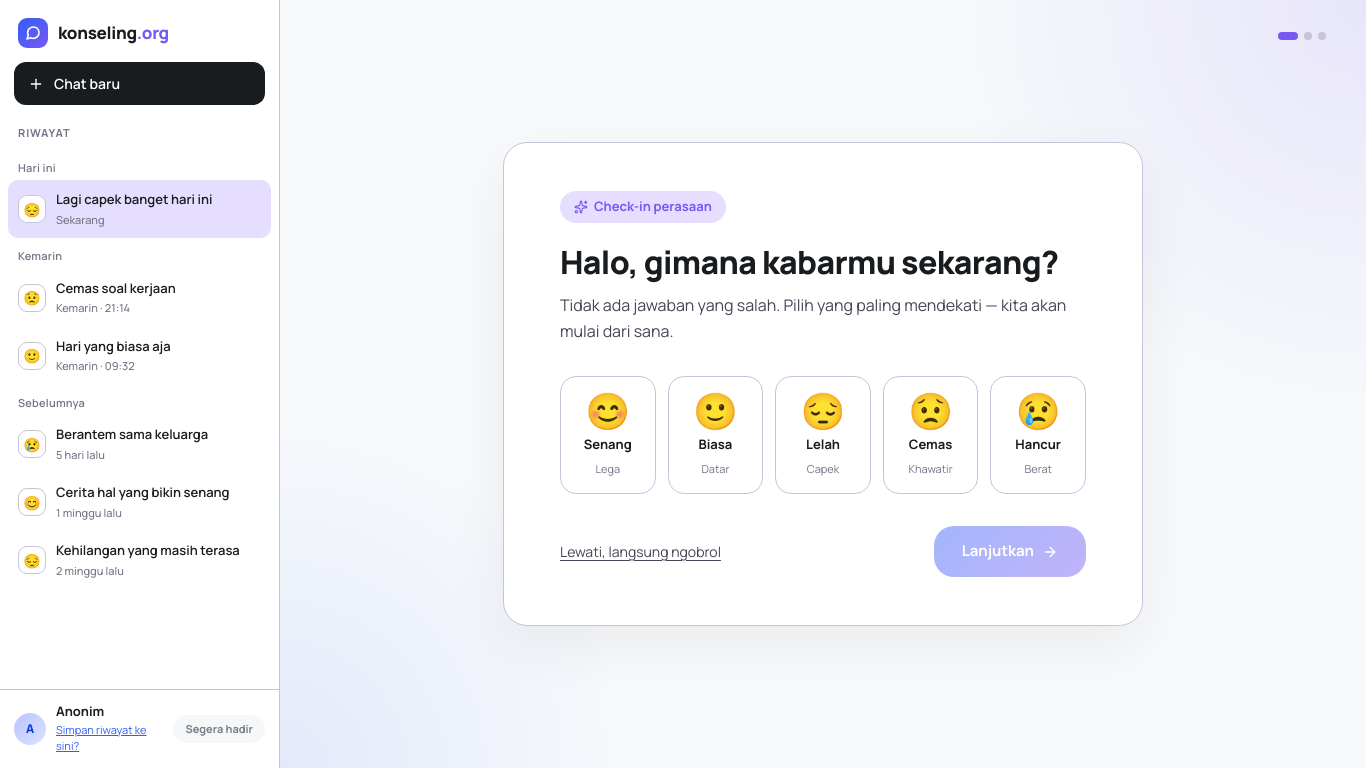
Test: ChatExperience › streams assistant text and disables the composer until done
Click the button with aria-label "Biasa — Datar".
click(715, 435)  # box [668,376,763,494]
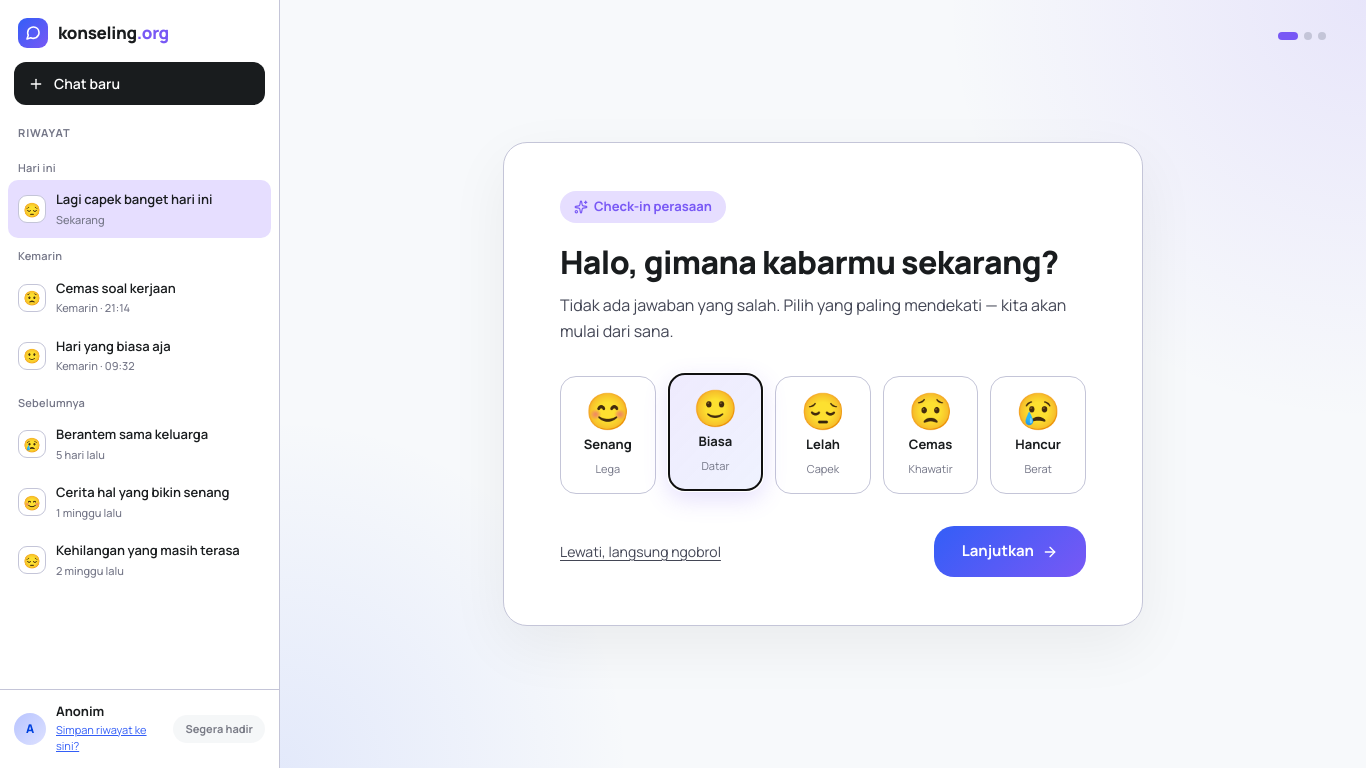
Click the button "Lanjutkan".
click(1010, 552)  # box [934,526,1086,577]
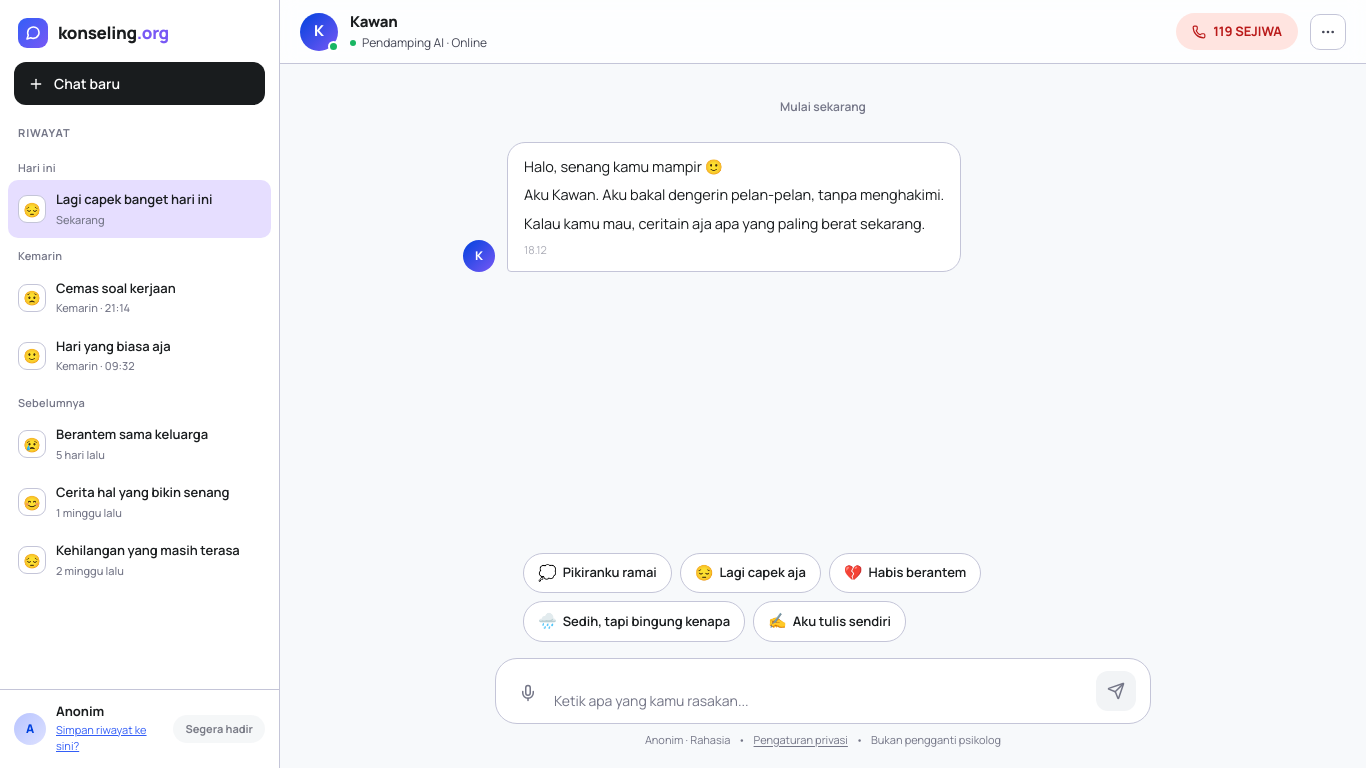
Expected: the text box named "Ketik pesan untuk Kawan" is shown
Type "Aku cuma capek banget hari ini" into the text box named "Ketik pesan untuk Kawan".
click(821, 700); type("Aku cuma capek banget hari ini")  # box [554,690,1088,710]
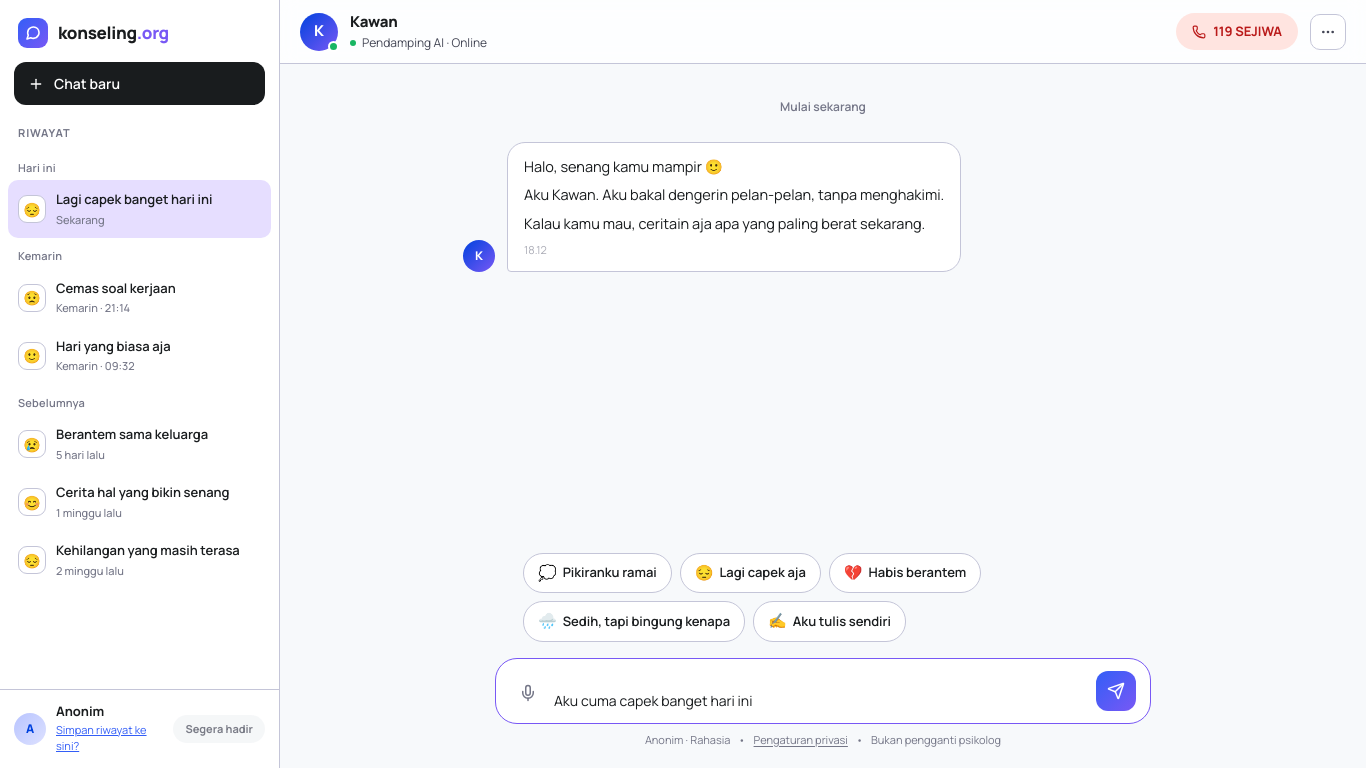
Click the button named "Kirim pesan".
click(1116, 690)  # box [1096,670,1136,710]
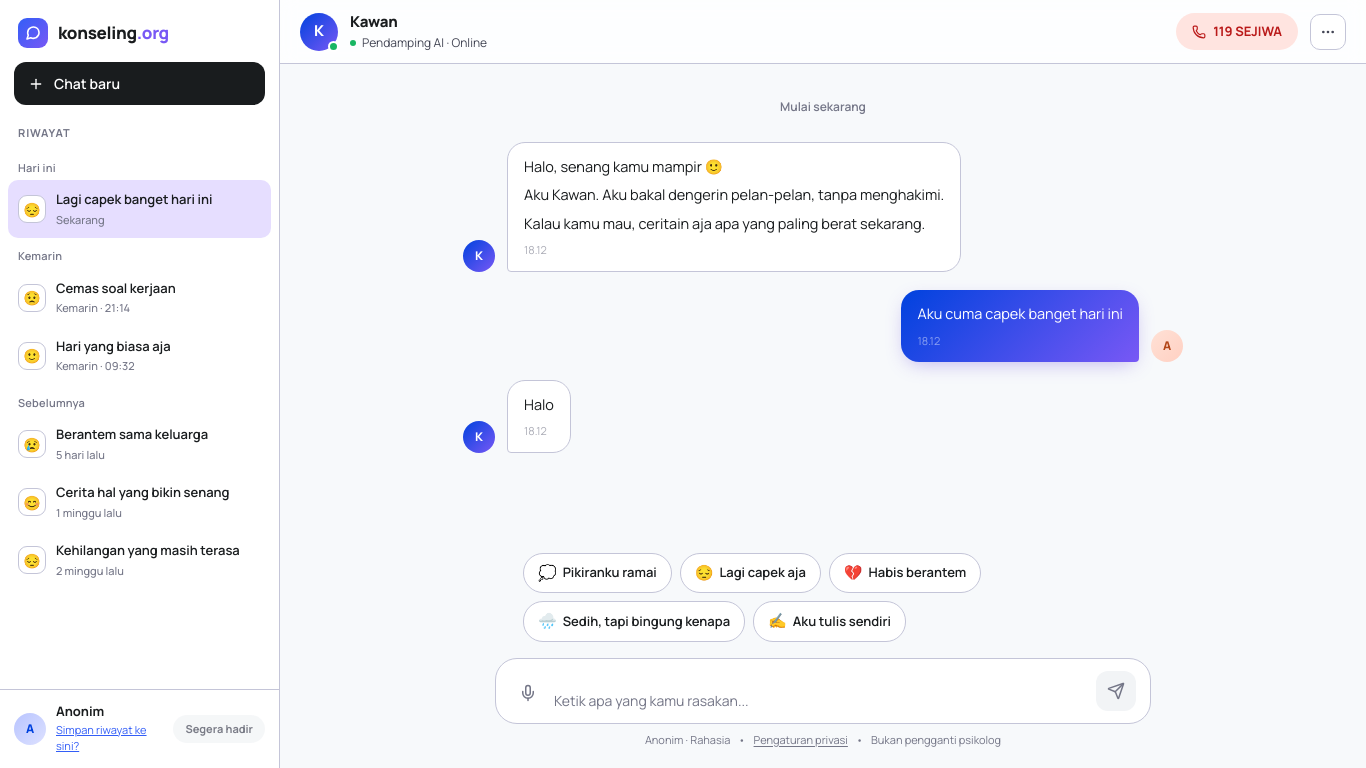
Expected: the text "Aku cuma capek banget hari ini" is shown, [918,304,1123,326]
Expected: the text "Halo" is shown, [524,394,554,416]
Expected: the button named "Kirim pesan" is disabled, [1096,670,1136,710]
